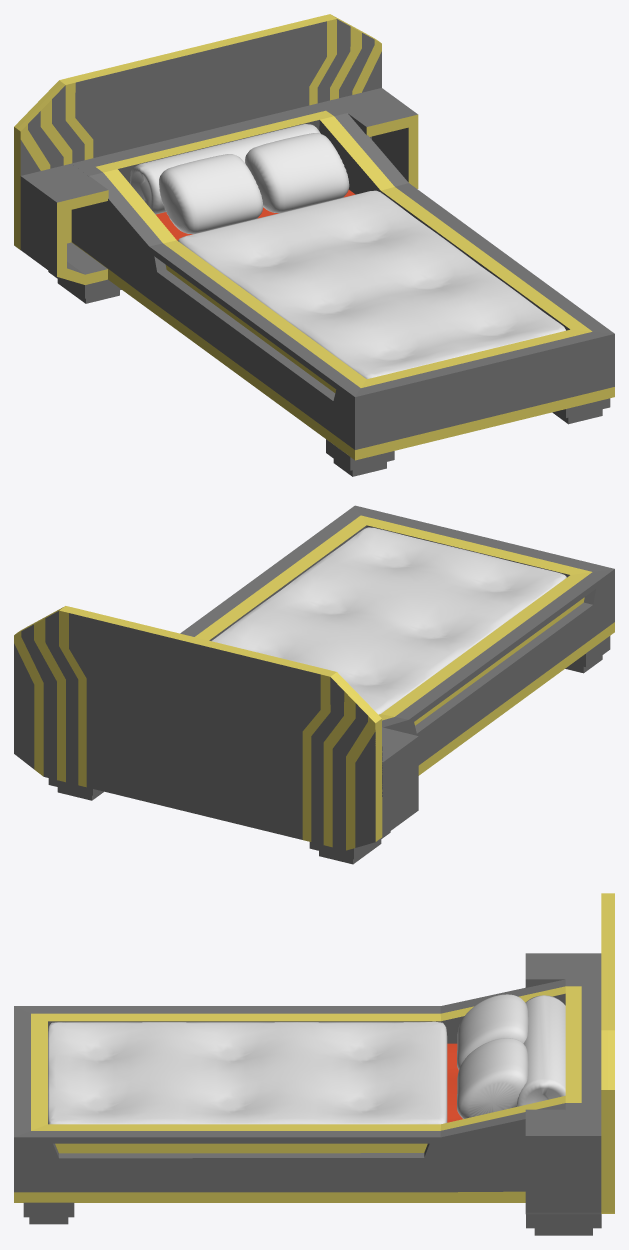
File: bed_tier19.fbx
3 views of the same model, one above another, from view 1: azimuth 30°, elevation 25°; view 2: azimuth 150°, elevation 25°; view 3: azimuth 270°, elevation 25° (orthographic). The views are drawn at different scales.
Parts seen in each view (by area): view 1: Cube, Cube.001, Cube.008, Cylinder.001, Cube.007, Cube.009, Cube.002, Cube.004, Cube.003; view 2: Cube.008, Cube.001, Cube, Cube.007, Cube.004, Cube.002, Cube.005; view 3: Cube, Cube.001, Cube.009, Cylinder.001, Cube.008, Cube.007, Cube.005, Cube.003, Cube.006.
Boxes of the visible parts, bbox=[...] form: Cube: bbox=[71, 100, 614, 460]; Cube.001: bbox=[130, 124, 565, 378]; Cube.008: bbox=[14, 14, 381, 249]; Cylinder.001: bbox=[159, 133, 349, 233]; Cube.007: bbox=[20, 163, 108, 284]; Cube.009: bbox=[331, 88, 418, 188]; Cube.002: bbox=[326, 439, 394, 476]; Cube.004: bbox=[48, 270, 121, 303]; Cube.003: bbox=[552, 398, 610, 424]; Cube.008: bbox=[14, 606, 382, 850]; Cube.001: bbox=[211, 527, 566, 714]; Cube: bbox=[180, 505, 614, 775]; Cube.007: bbox=[382, 727, 418, 836]; Cube.004: bbox=[309, 831, 390, 864]; Cube.002: bbox=[565, 636, 610, 673]; Cube.005: bbox=[48, 778, 103, 800]; Cube: bbox=[14, 979, 601, 1202]; Cube.001: bbox=[48, 995, 565, 1124]; Cube.009: bbox=[525, 1109, 601, 1214]; Cylinder.001: bbox=[457, 994, 528, 1118]; Cube.008: bbox=[601, 893, 614, 1213]; Cube.007: bbox=[525, 953, 601, 987]; Cube.005: bbox=[526, 1214, 601, 1235]; Cube.003: bbox=[23, 1202, 74, 1224]; Cube.006: bbox=[447, 1043, 462, 1122].
Bounding box in the file's own units: 263 × 134 × 365.
